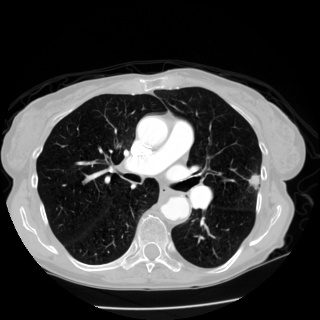PN: (247, 173, 261, 187)
